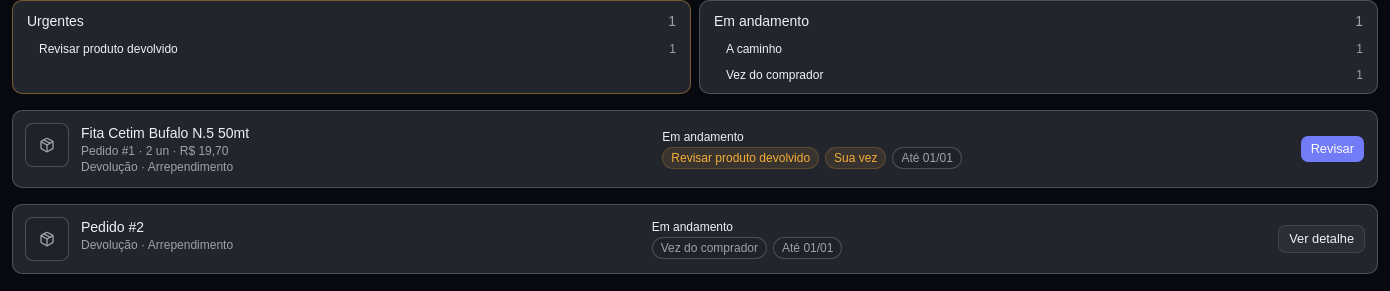
Test: 7. contadores filtram a lista › clicar em Urgentes filtra, mostra o estado selecionado e permite limpar
Expected: the text "Pedido #1 · 2 un · R$ 19,70" is shown 2 times, x1=81 y1=143 x2=249 y2=159; x1=81 y1=219 x2=144 y2=235
Click the button "Urgentes 1" at (55, 21), box x1=19 y1=7 x2=684 y2=35
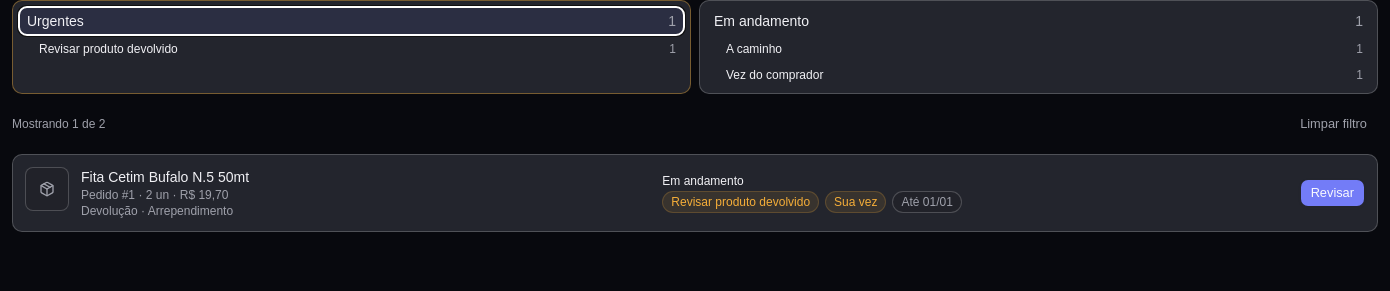
Now the text "Pedido #1 · 2 un · R$ 19,70" is shown once, box x1=81 y1=187 x2=249 y2=203
Click the button "Limpar filtro" at (1334, 124), box x1=1289 y1=110 x2=1378 y2=138
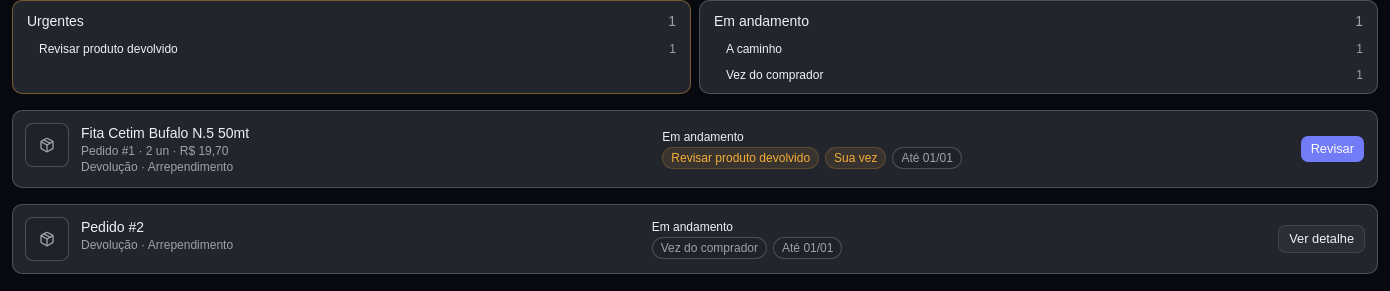
Now the text "Pedido #1 · 2 un · R$ 19,70" is shown 2 times, box x1=81 y1=143 x2=249 y2=159; x1=81 y1=219 x2=144 y2=235
